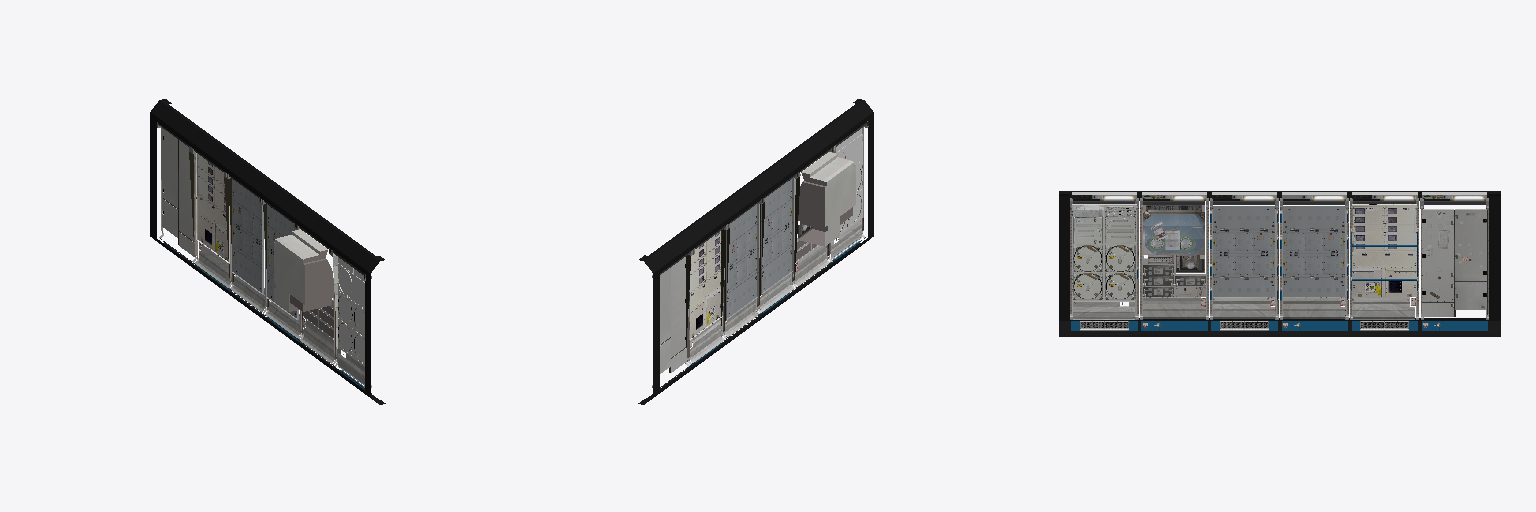
3 views of the same model, side by side, from view 1: azimuth 30°, elevation 25°; view 2: azimuth 150°, elevation 25°; view 3: azimuth 270°, elevation 25° (orthographic).
Size of the model in its own units: 0.6921 by 2.42 by 6.72.
Materials: 40 (17 with a texture image).